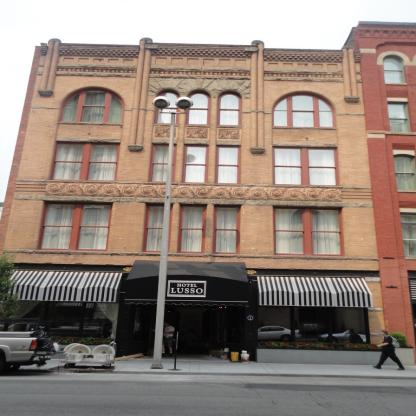Car: (256, 324, 302, 340)
